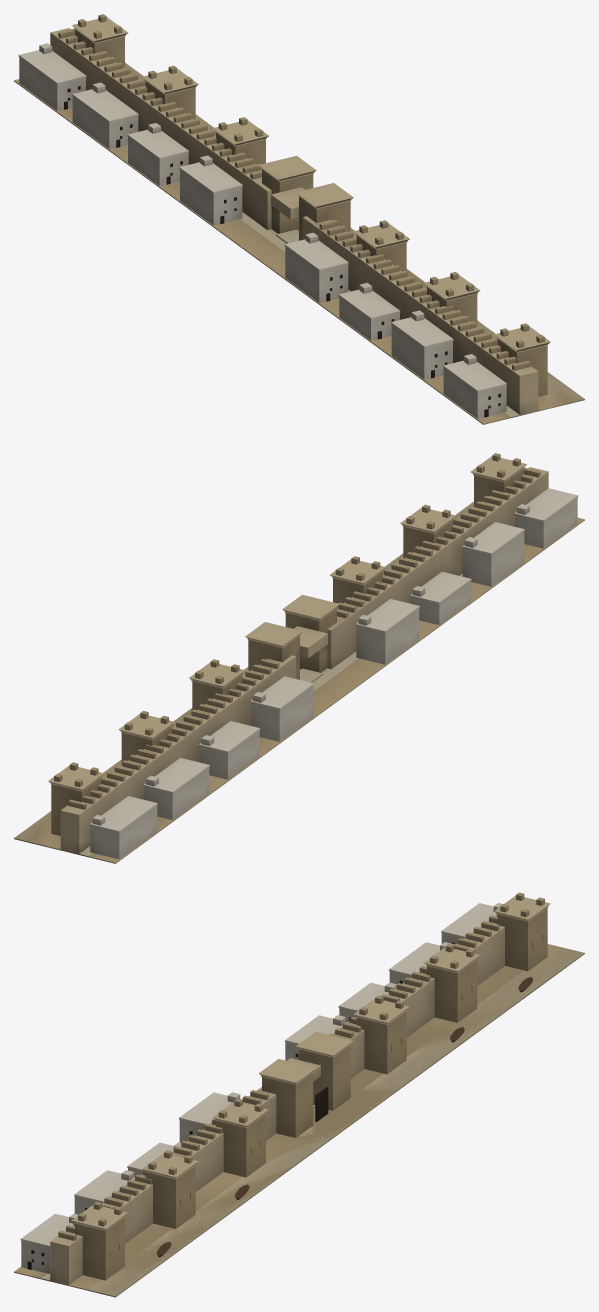
The model's file is sea-wall.glb.
The picture shows the model from 3 angles, top to bottom: view 1: azimuth 30°, elevation 25°; view 2: azimuth 150°, elevation 25°; view 3: azimuth 330°, elevation 25°; orthographic projection.
Visible parts, largest first — view 1: p2_houses, p0_wall, p1_towers; view 2: p2_houses, p0_wall, p1_towers; view 3: p0_wall, p1_towers, p2_houses.
Part boxes in pixels (box(x1,y1,x2,y2)): p2_houses: box(18, 14, 544, 418); p0_wall: box(14, 28, 584, 424); p1_towers: box(72, 17, 550, 396); p2_houses: box(54, 453, 578, 859); p0_wall: box(14, 467, 584, 863); p1_towers: box(48, 456, 526, 835); p0_wall: box(14, 915, 584, 1297); p1_towers: box(72, 895, 550, 1280); p2_houses: box(20, 892, 544, 1282).
Size of the model in its own units: 30 by 16.7 by 240.
